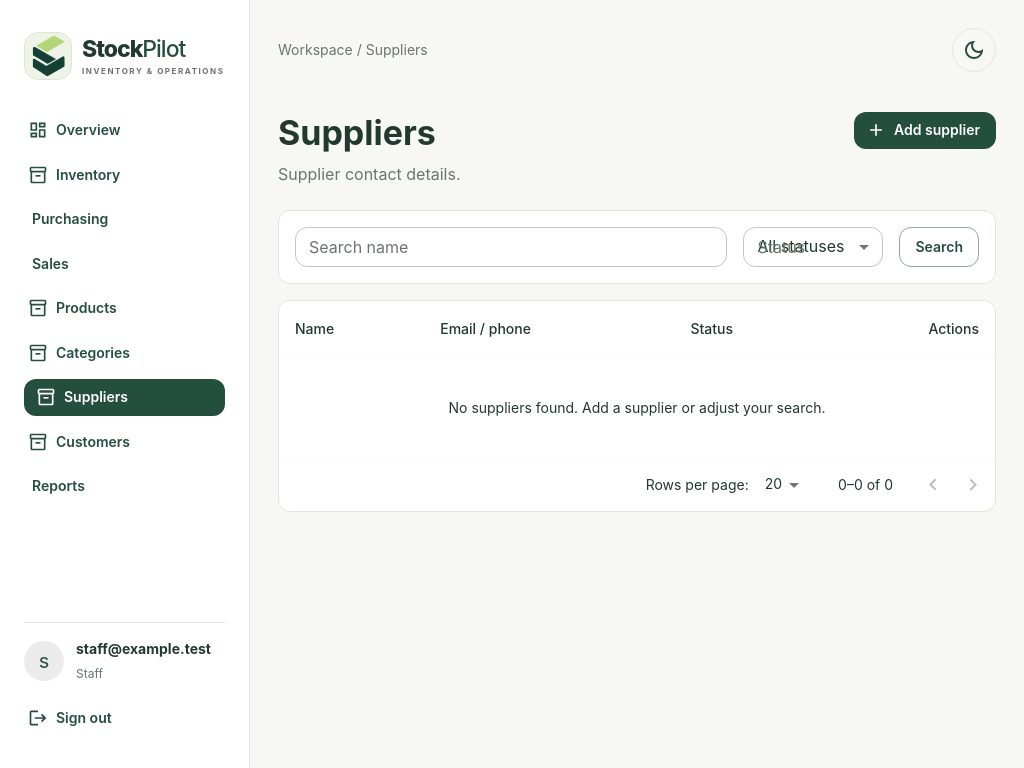
Scenario: keeps the original creation request through a background session failure (0)
Click the button "Add supplier" at point(925, 130), box [854,112,996,148]
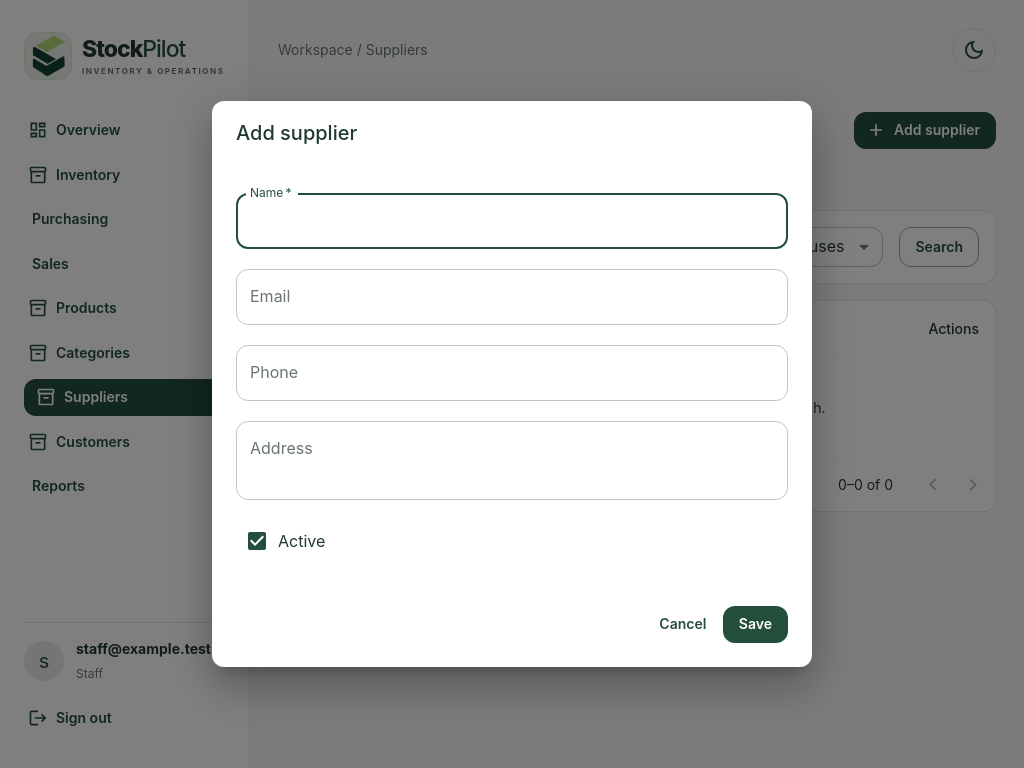
Type "Example supplier" into the field labelled "Name *" at point(512, 221), box [236,193,788,249]
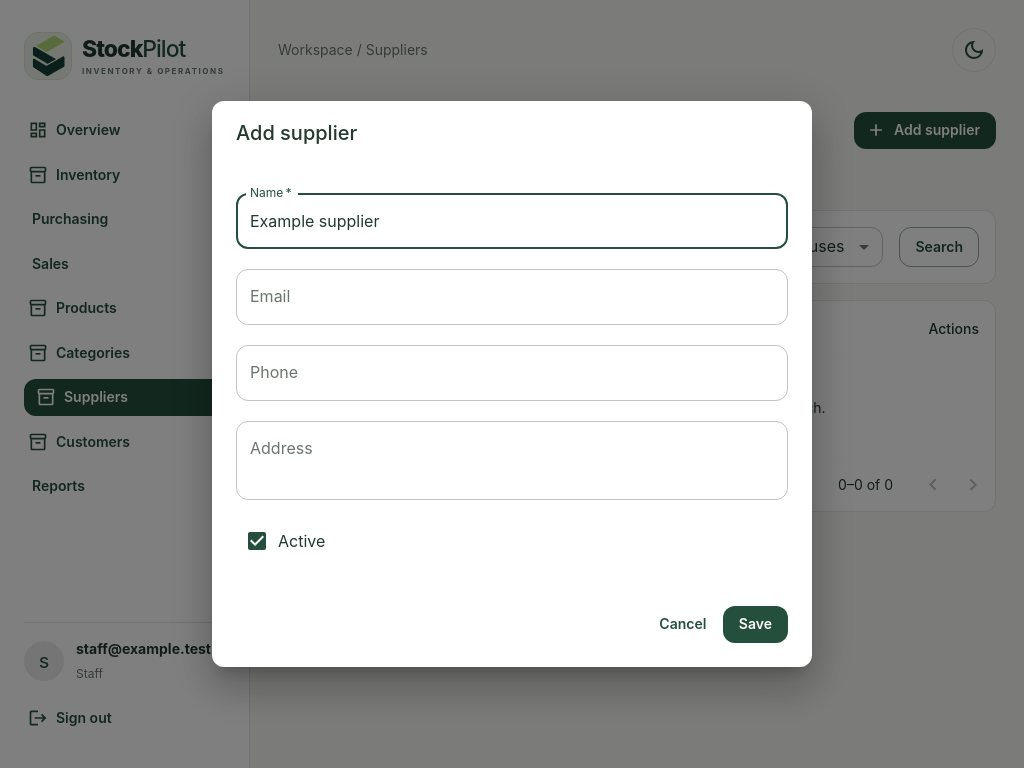
Click the button "Save" at point(755, 625), box [723,606,788,643]
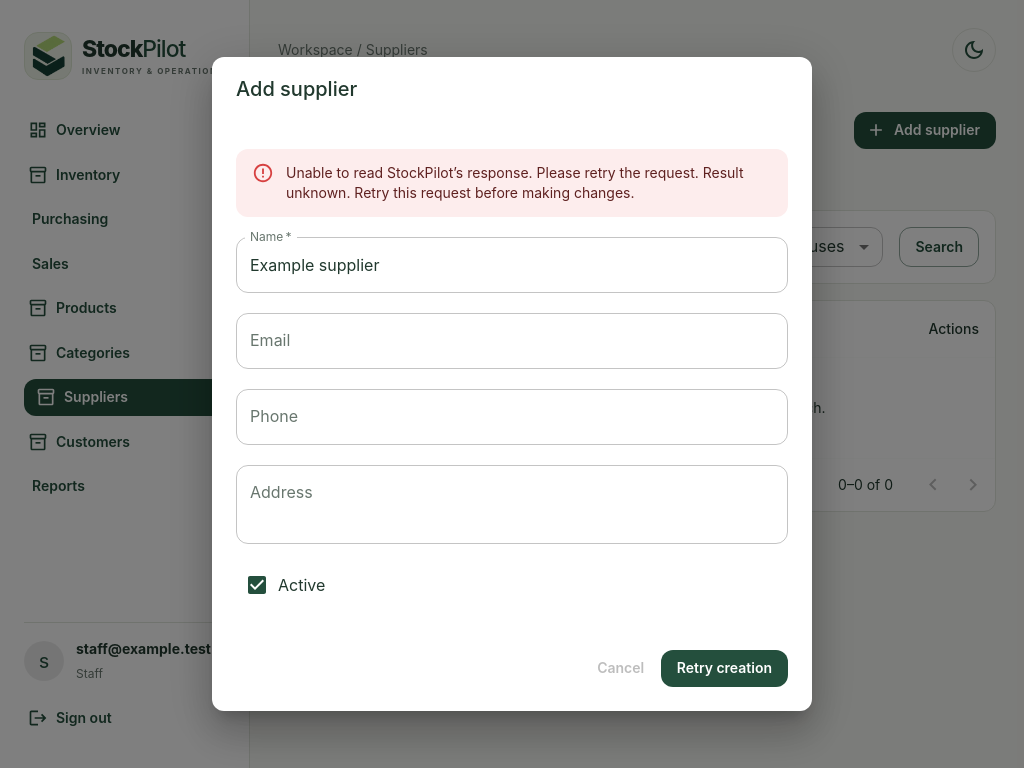
Expected: the dialog is shown, [212,57,812,711]
Expected: the field labelled "Name *" is disabled, [236,237,788,293]
Expected: the button "Retry creation" is shown
Click the button "Retry creation" at point(724, 669), box [661,650,788,687]
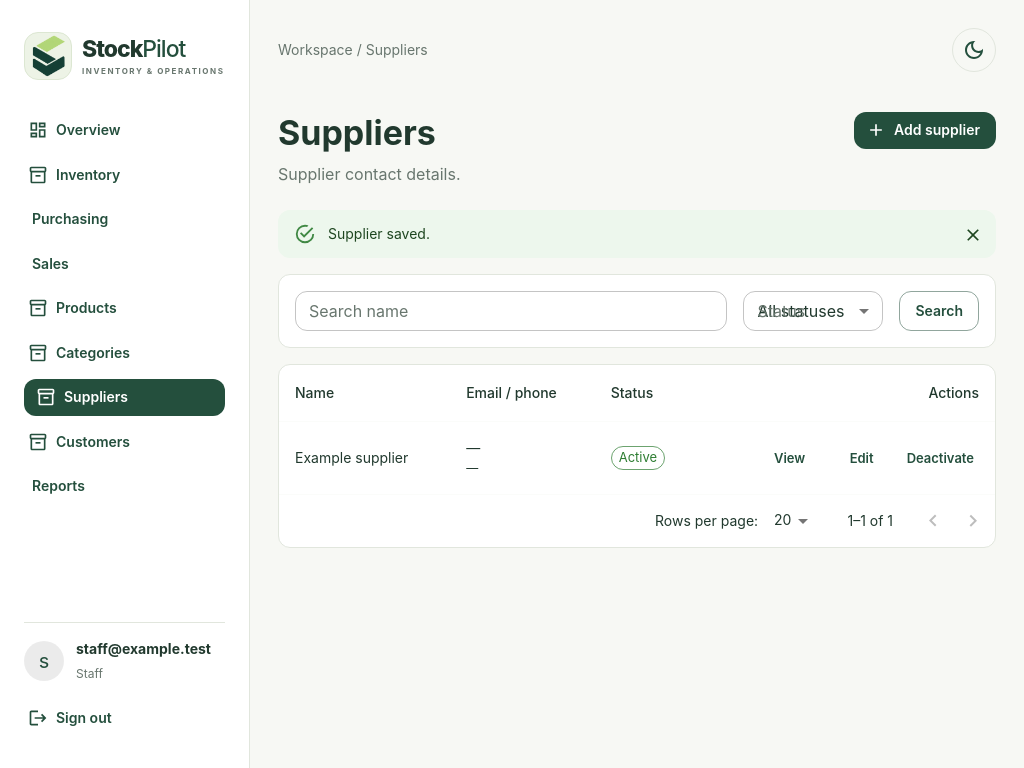
Expected: the dialog is gone
